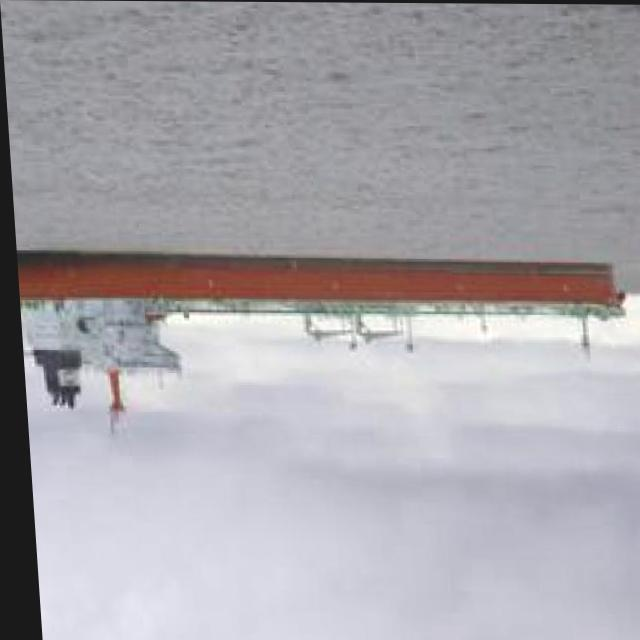ship2: (13, 250, 624, 436)
